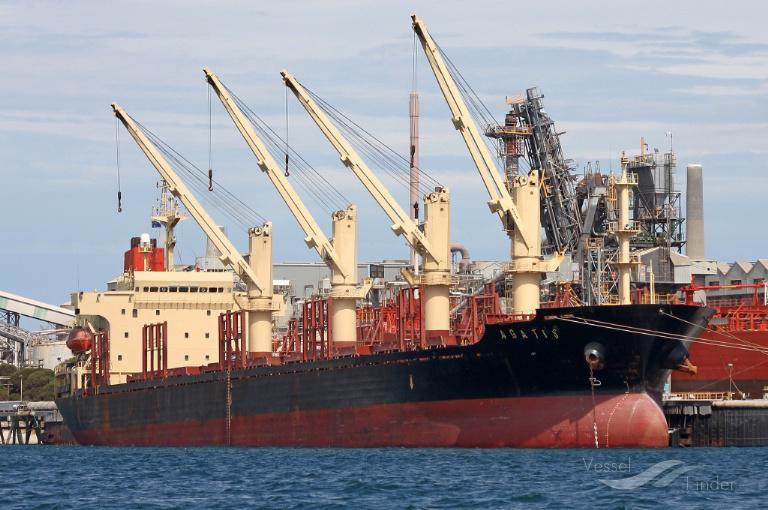OCR: (490, 323, 574, 347)
